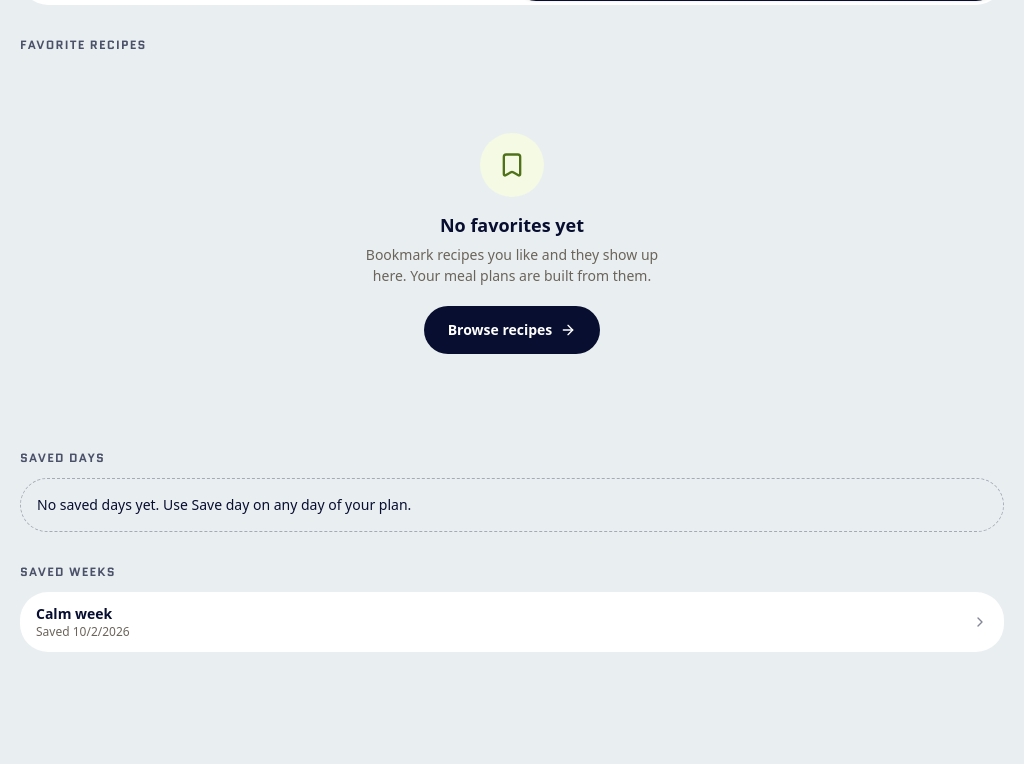
Test: FavoritesScreen › peeks at a saved week with Day 1 / Day 2 labels
This screenshot has width=1024, height=764.
(page scrolled)
What coordinates should you click on to do the following:
click the button "Calm week Saved 10/2/2026"
I would click on:
 (74, 613)
Its box is [20, 592, 1004, 652].
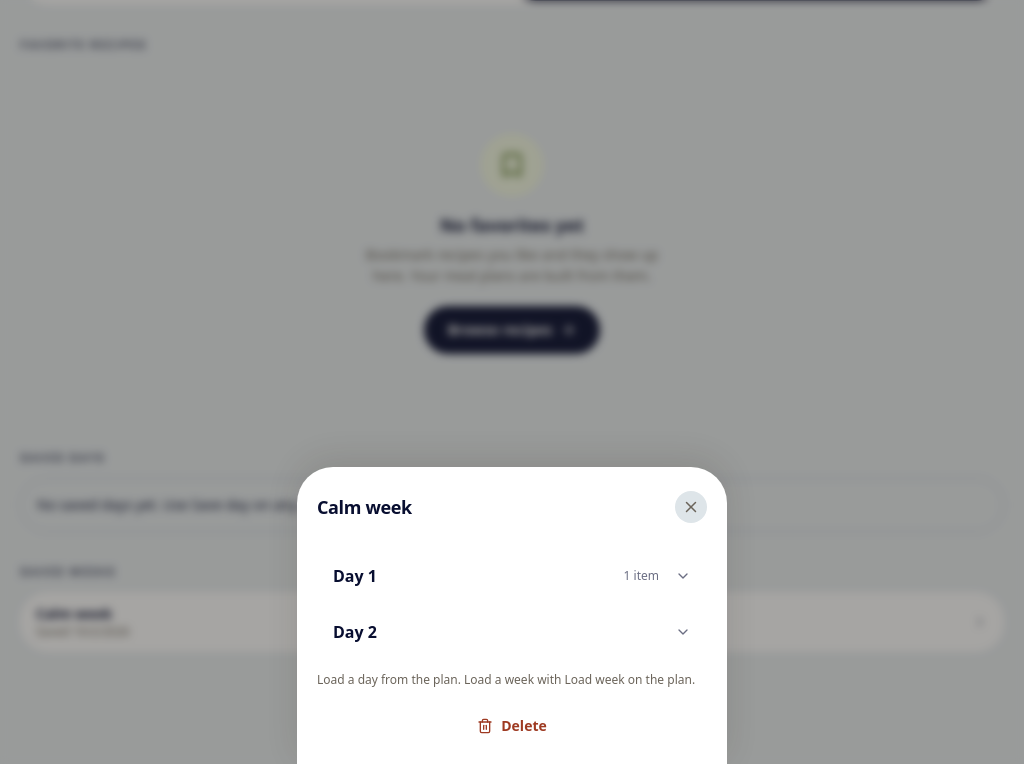
Expected: the dialog shows "Day 1", [317, 552, 707, 600]
Expected: the dialog shows "Day 2", [317, 608, 707, 656]
